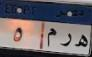5: (10, 27, 25, 43)
haa: (74, 31, 87, 50)
meem: (47, 27, 57, 49)
raa: (60, 31, 72, 48)
